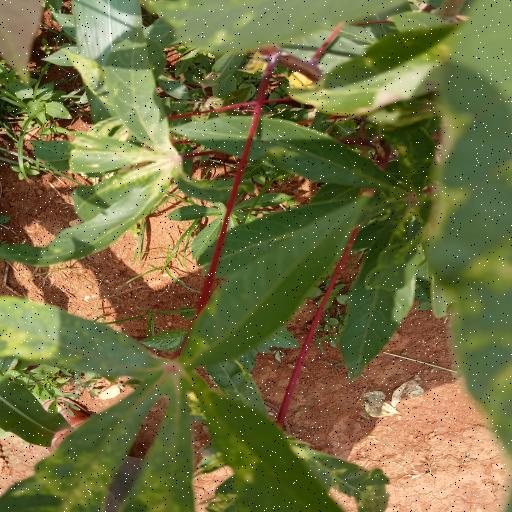Cassava_Healthy: (0, 194, 383, 508), (0, 29, 185, 266)
